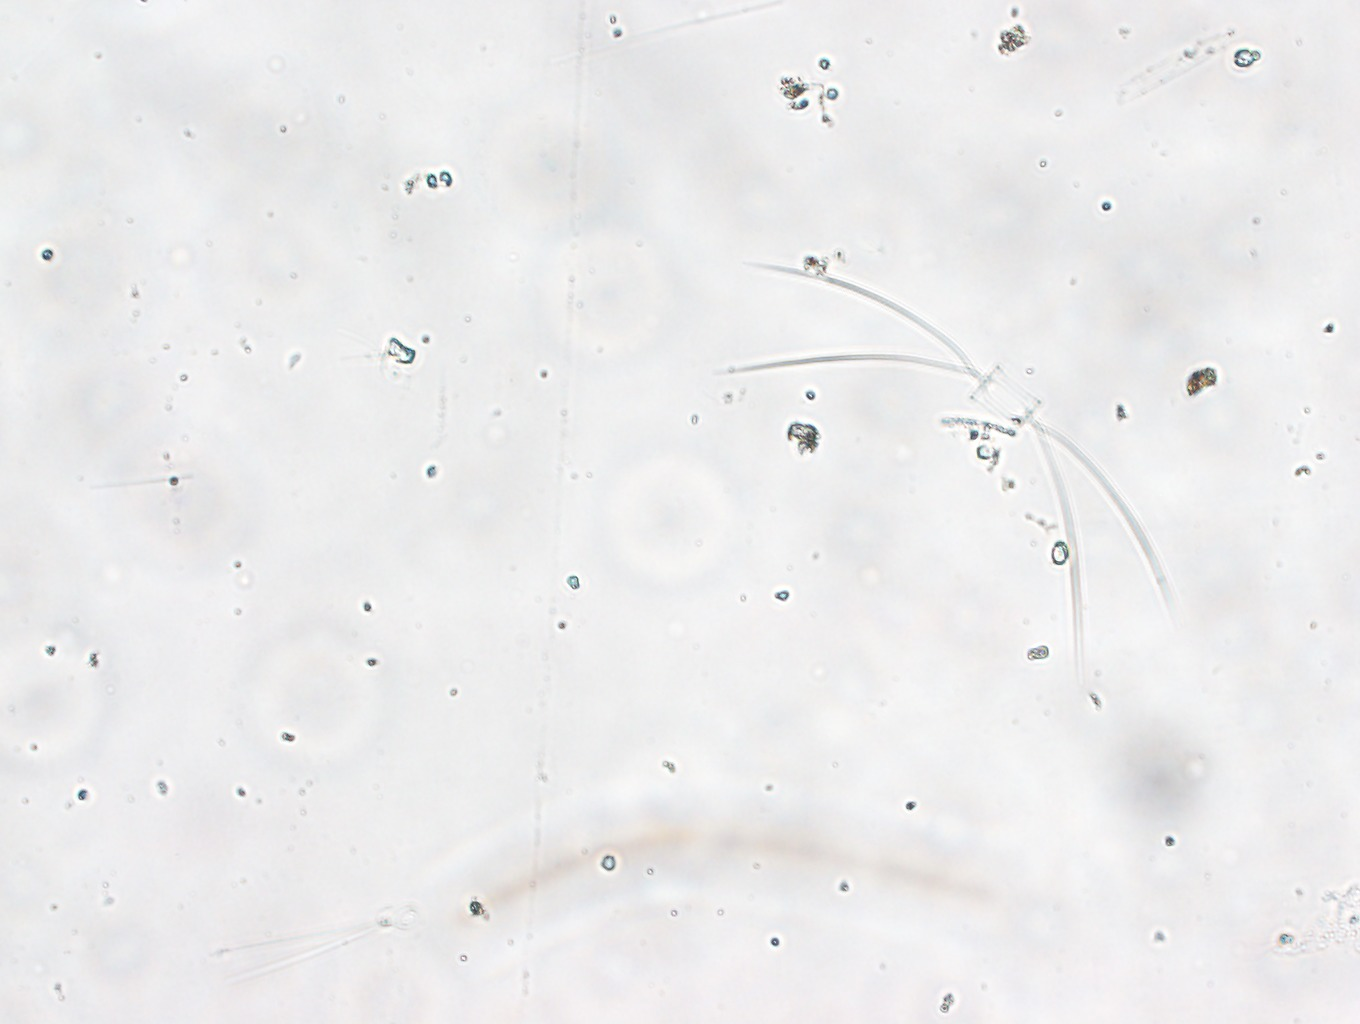chaetoceros: (728, 264, 1193, 691)
